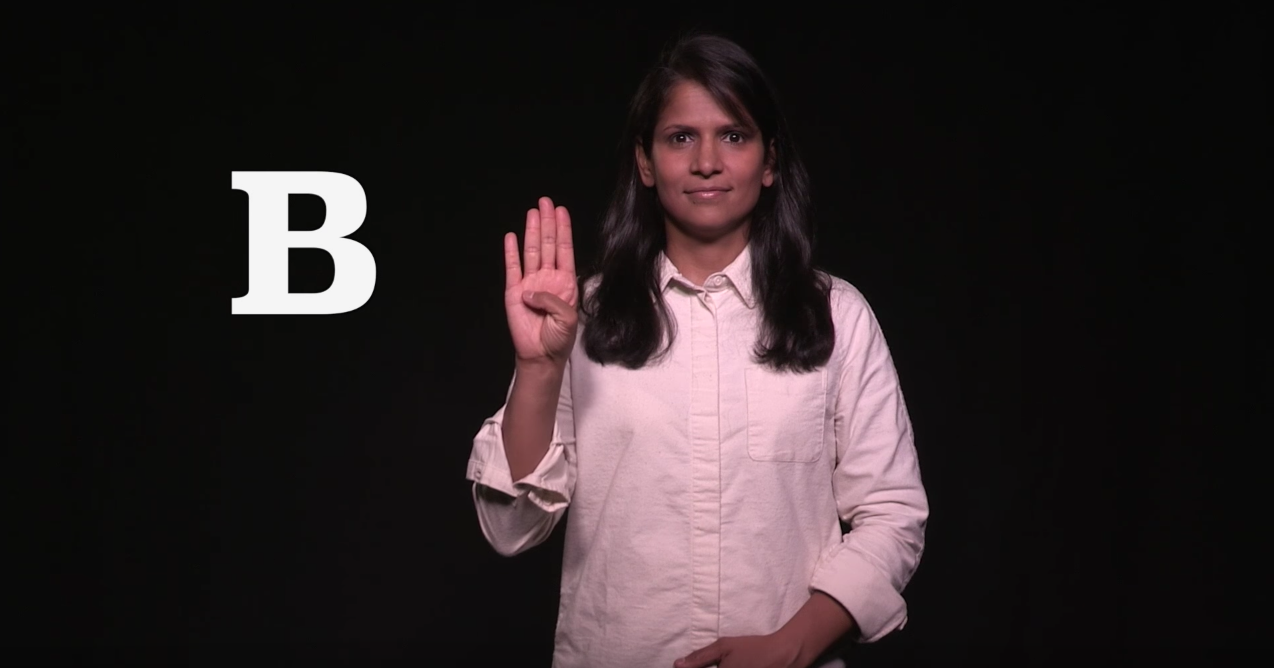b: (487, 187, 597, 378)
